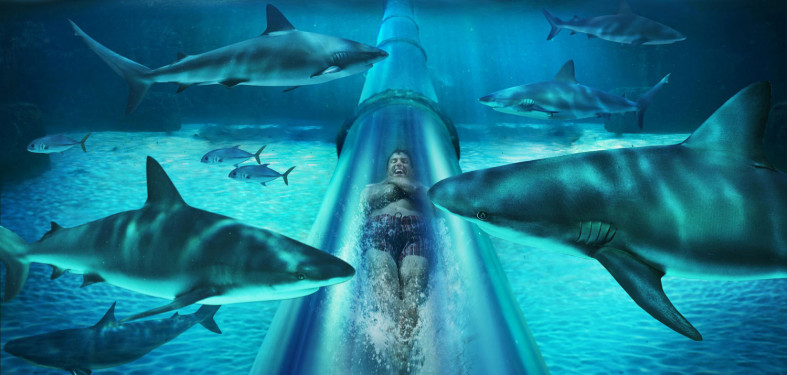shark: (430, 93, 787, 257), (1, 160, 362, 308), (67, 4, 391, 110), (1, 302, 249, 372), (467, 56, 677, 133), (529, 1, 705, 49)
